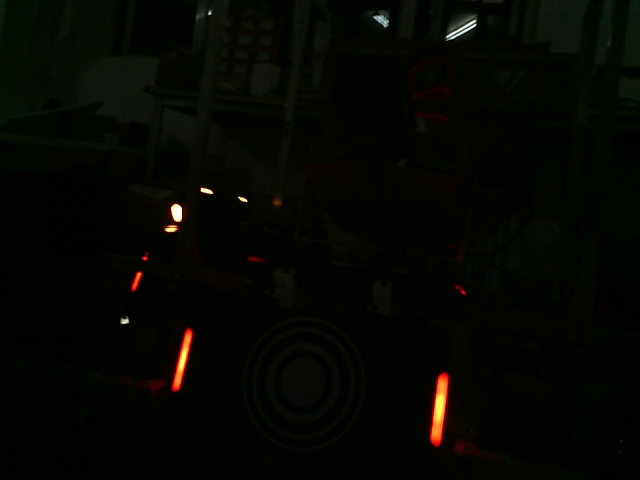lamp: (170, 325, 195, 396), (430, 370, 449, 449)
